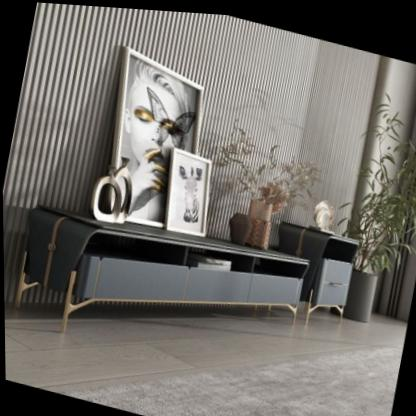Sideboard: (14, 205, 309, 331)
